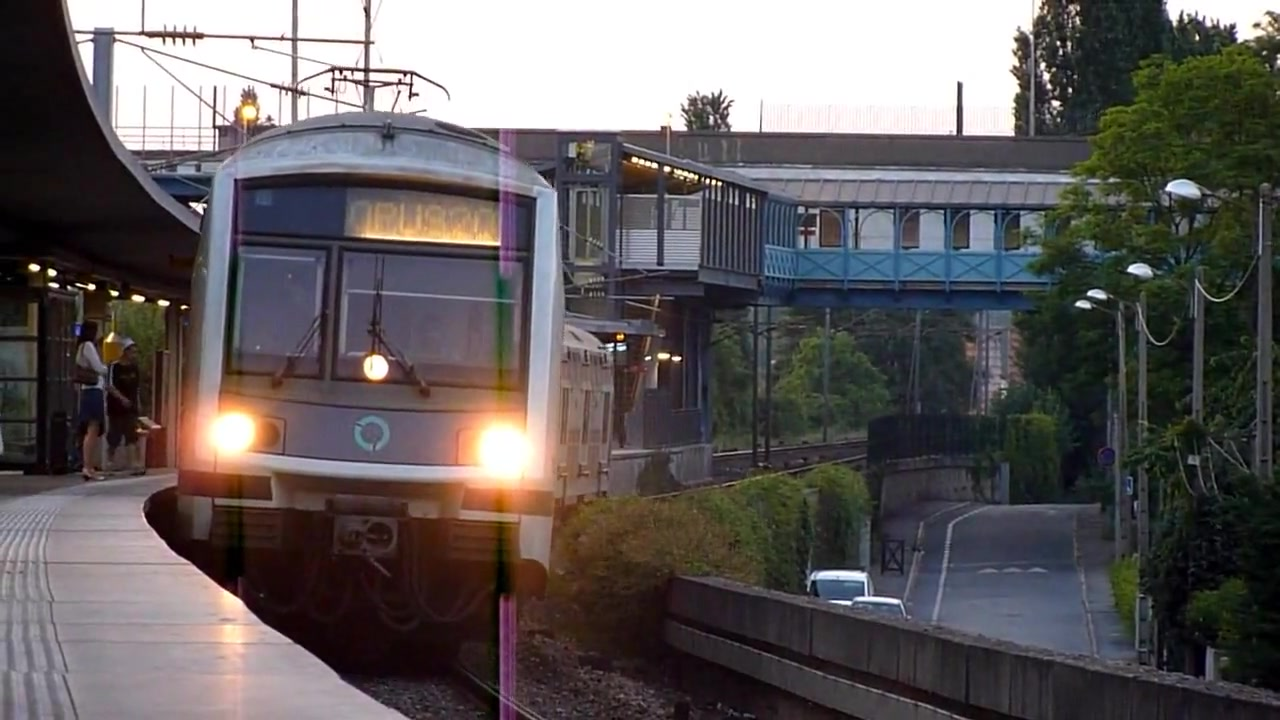train: (158, 65, 624, 630)
